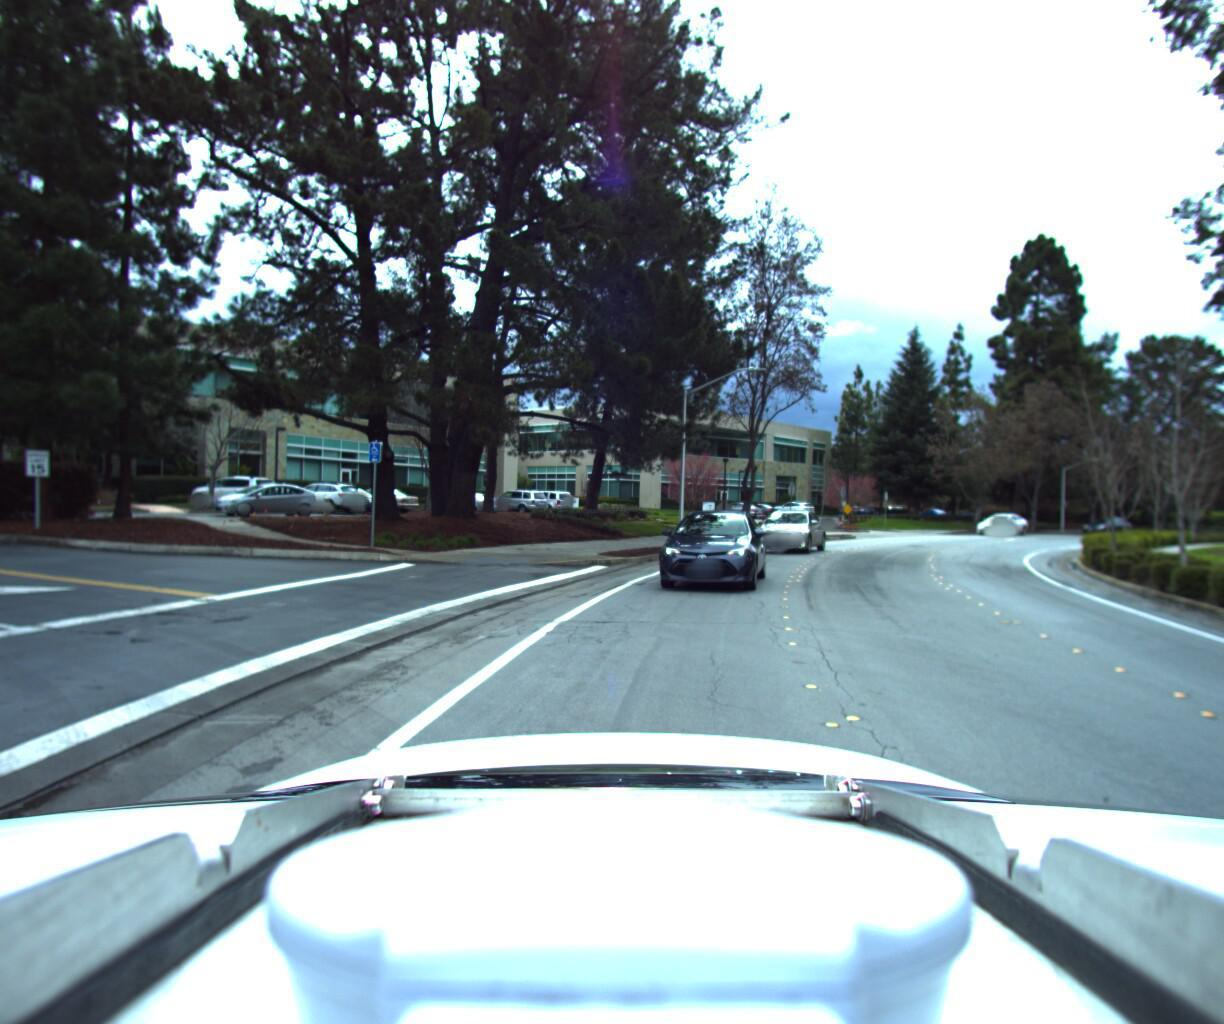car: (644, 501, 767, 595), (740, 500, 820, 549), (967, 505, 1023, 534)
